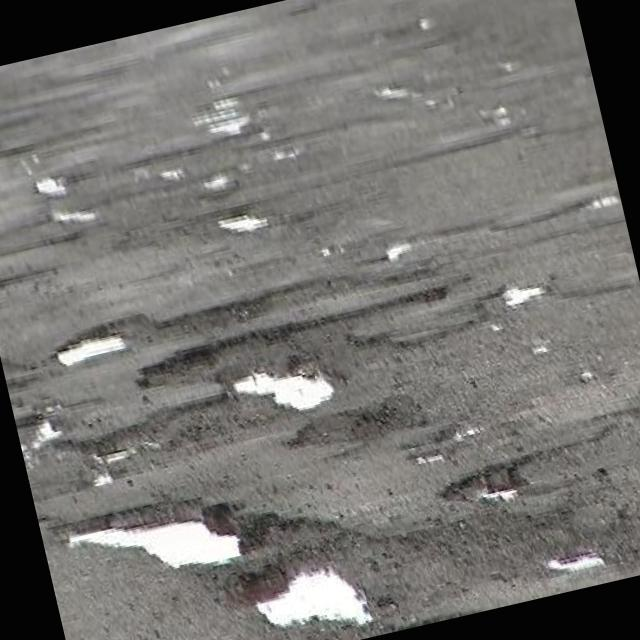Lubang: (69, 520, 240, 567), (256, 569, 371, 626), (150, 291, 272, 343), (233, 372, 333, 410), (441, 457, 527, 499), (57, 334, 125, 366)
